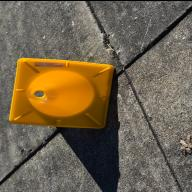cone: (9, 57, 114, 128)
